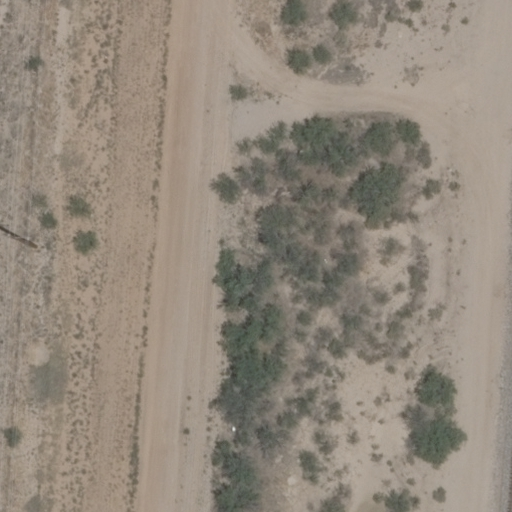DT: (6, 228, 48, 256)
